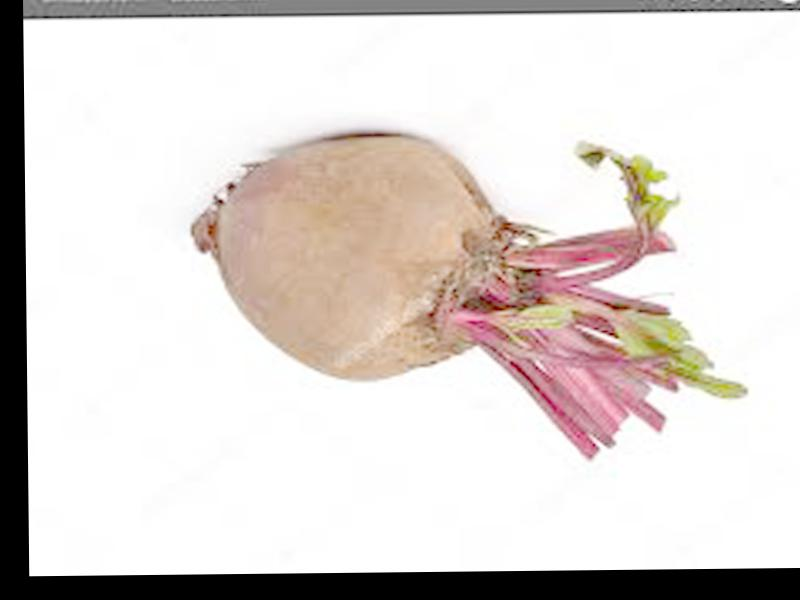Beet: (189, 126, 748, 464)
